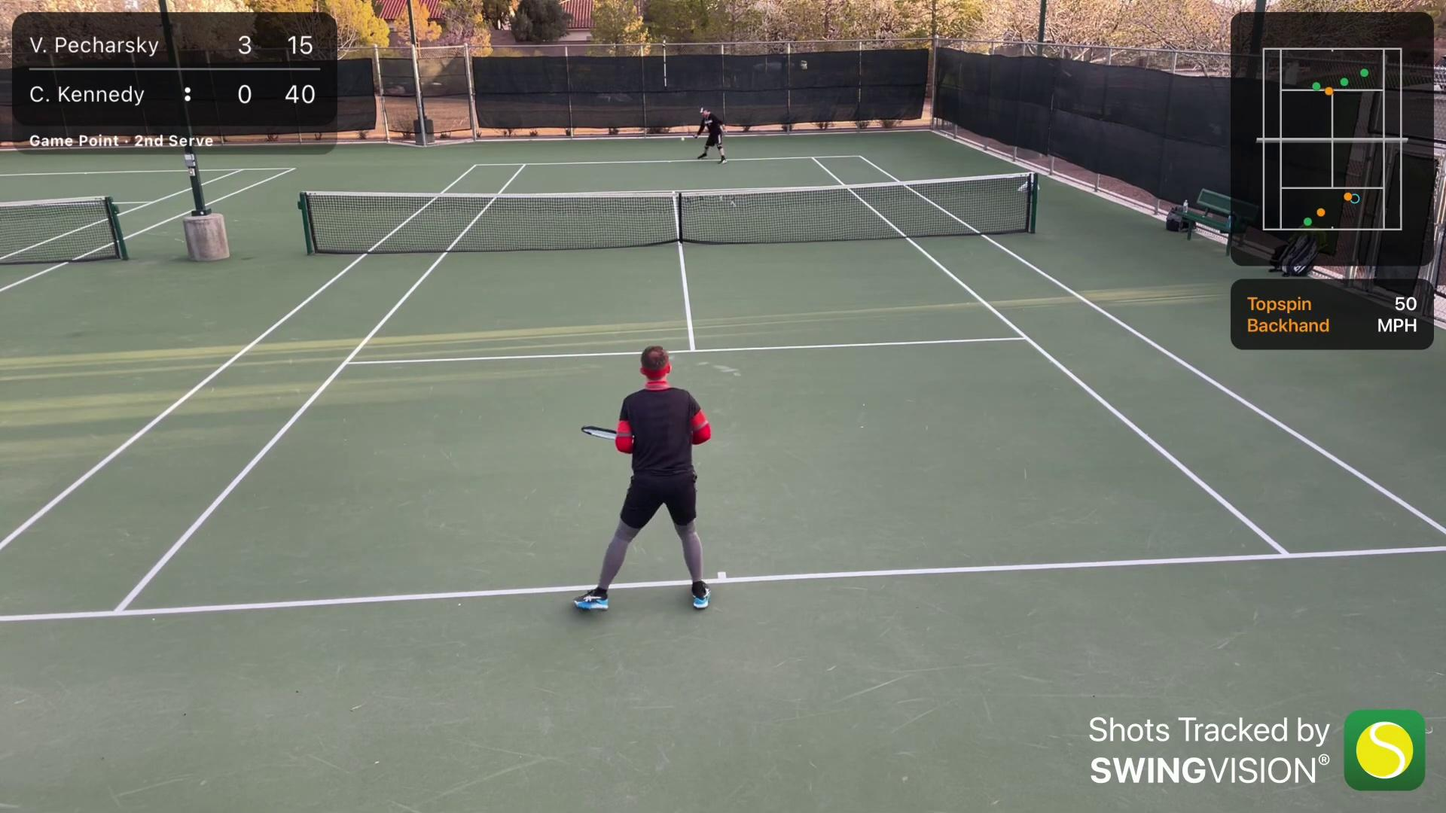ball: (680, 136, 686, 142), (443, 189, 446, 193)
